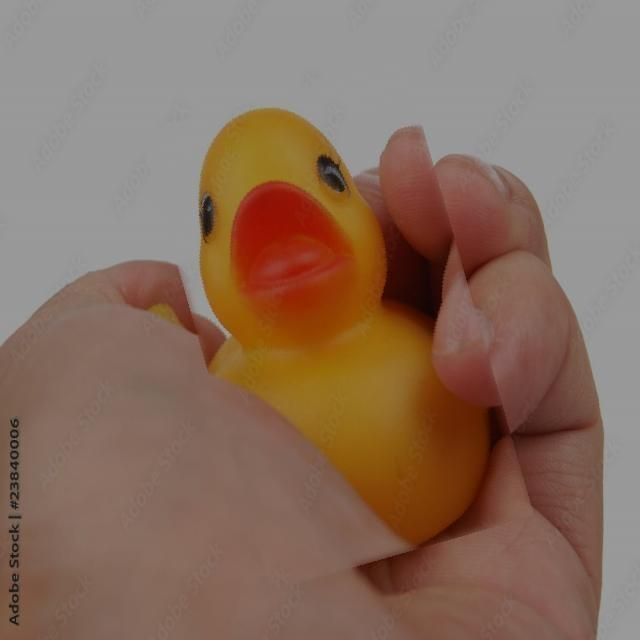rubber-duck: (199, 108, 487, 541)
